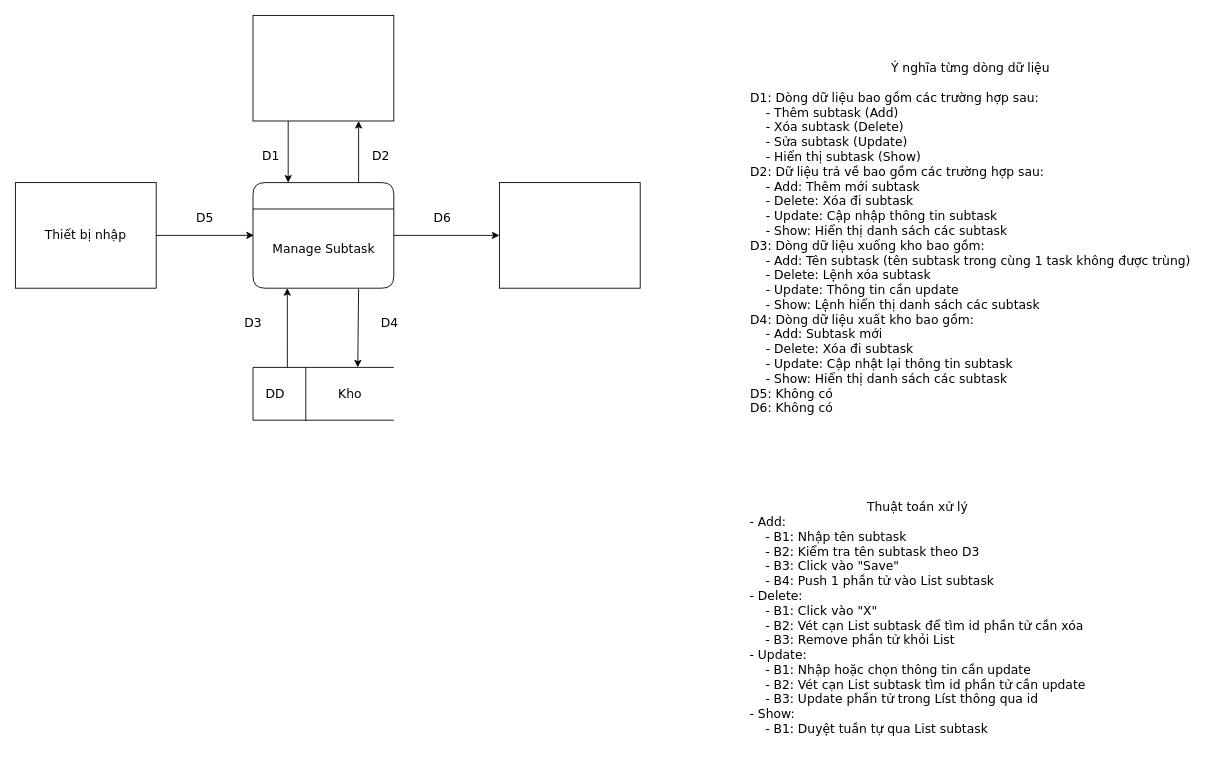
Image size: 1219x757. Some labels were removed from this diagram. Each missing label, with the centre of its shape:
Thiết bị xuất: the point at 569,235
User: the point at 323,68
